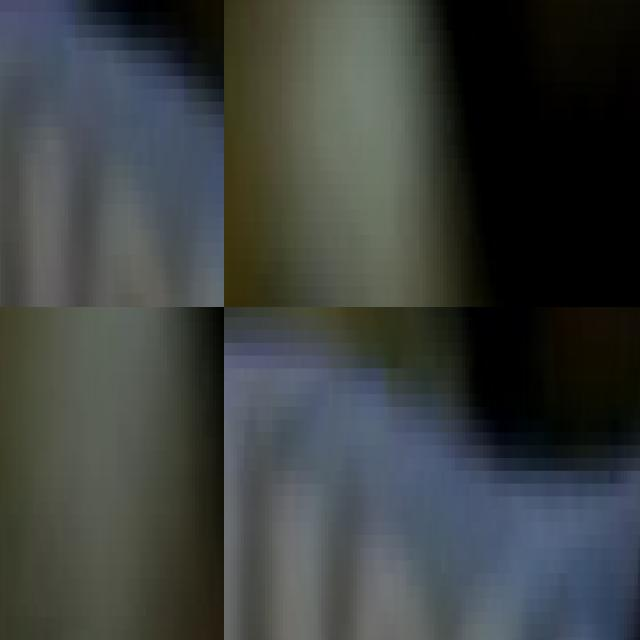fish: (0, 0, 224, 307)
